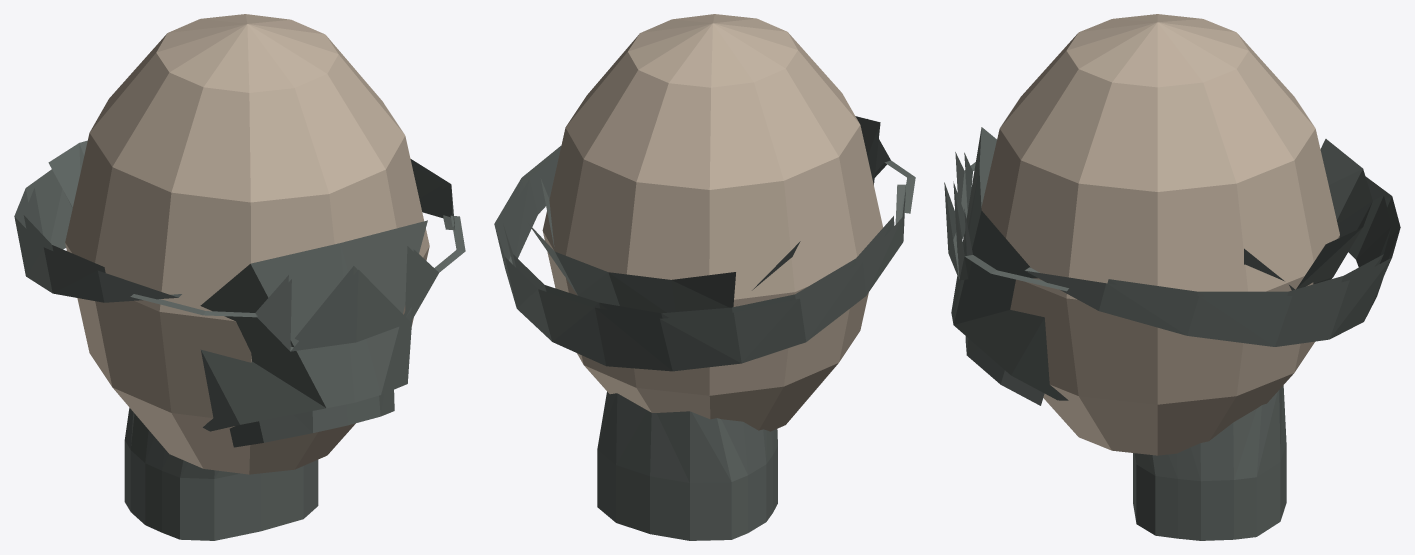
File: mask_h0.glb
The picture shows the model from 3 angles, left to right: view 1: azimuth 30°, elevation 25°; view 2: azimuth 150°, elevation 25°; view 3: azimuth 270°, elevation 25°; orthographic projection. The views are drawn at different scales.
Visible parts, largest first — view 1: Unarmored head; view 2: Unarmored head; view 3: Unarmored head.
Boxes of the visible parts, left/top/right/bottom form: Unarmored head: left=14, top=14, right=465, bottom=540; Unarmored head: left=494, top=14, right=915, bottom=540; Unarmored head: left=944, top=14, right=1400, bottom=540.
Size of the model in its own units: 0.2345 by 0.3053 by 0.2626.
